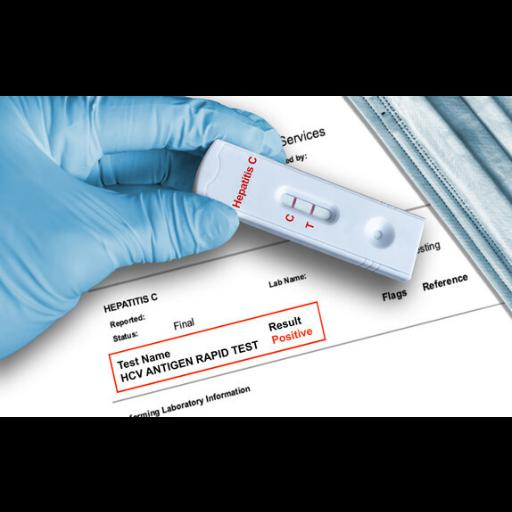Pos: (194, 137, 426, 281)
